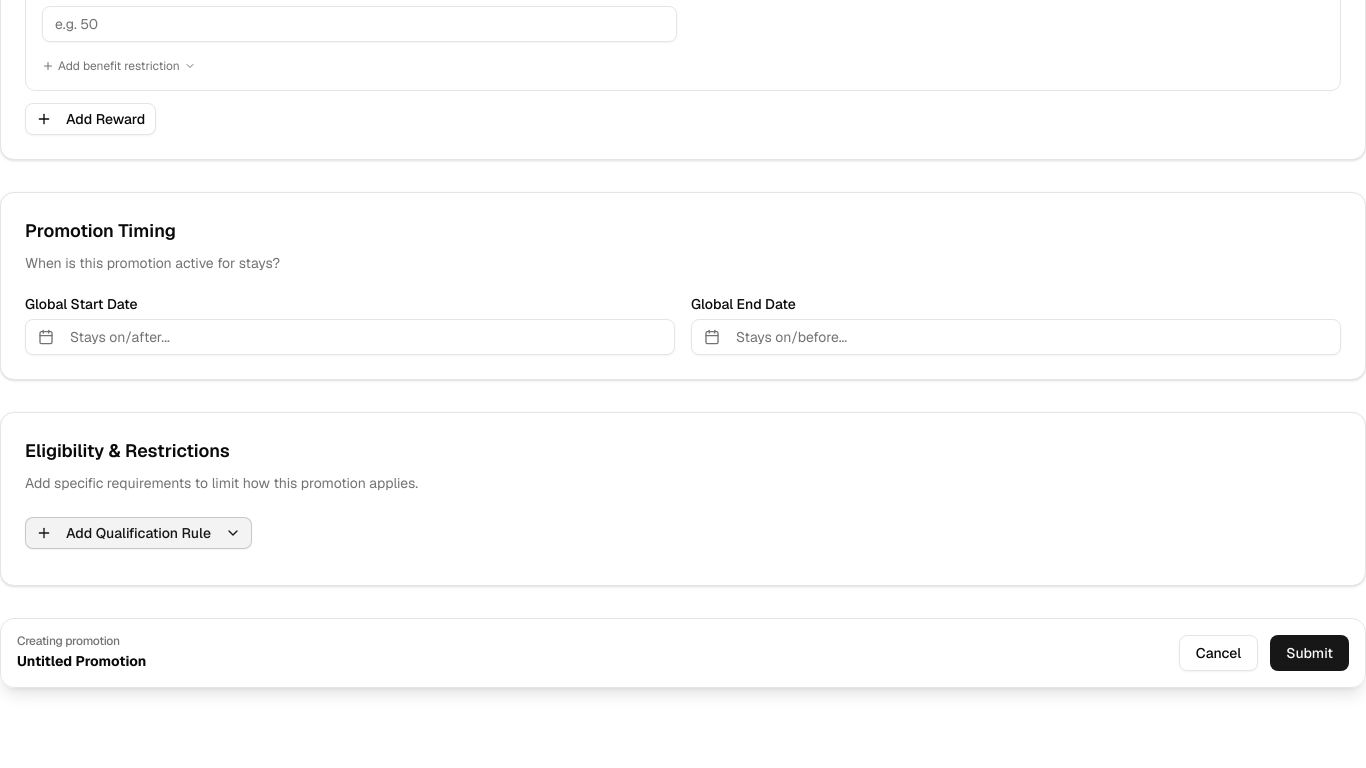
Test: PromotionForm › renders registration fields when restriction is added via picker
(page scrolled)
expect the field labelled "Registration Deadline" is not shown: met
// Open the picker and add Registration & Validity
Step 1. Click the button with test id "restriction-picker-button" → (138, 533), box [25,517,252,549]
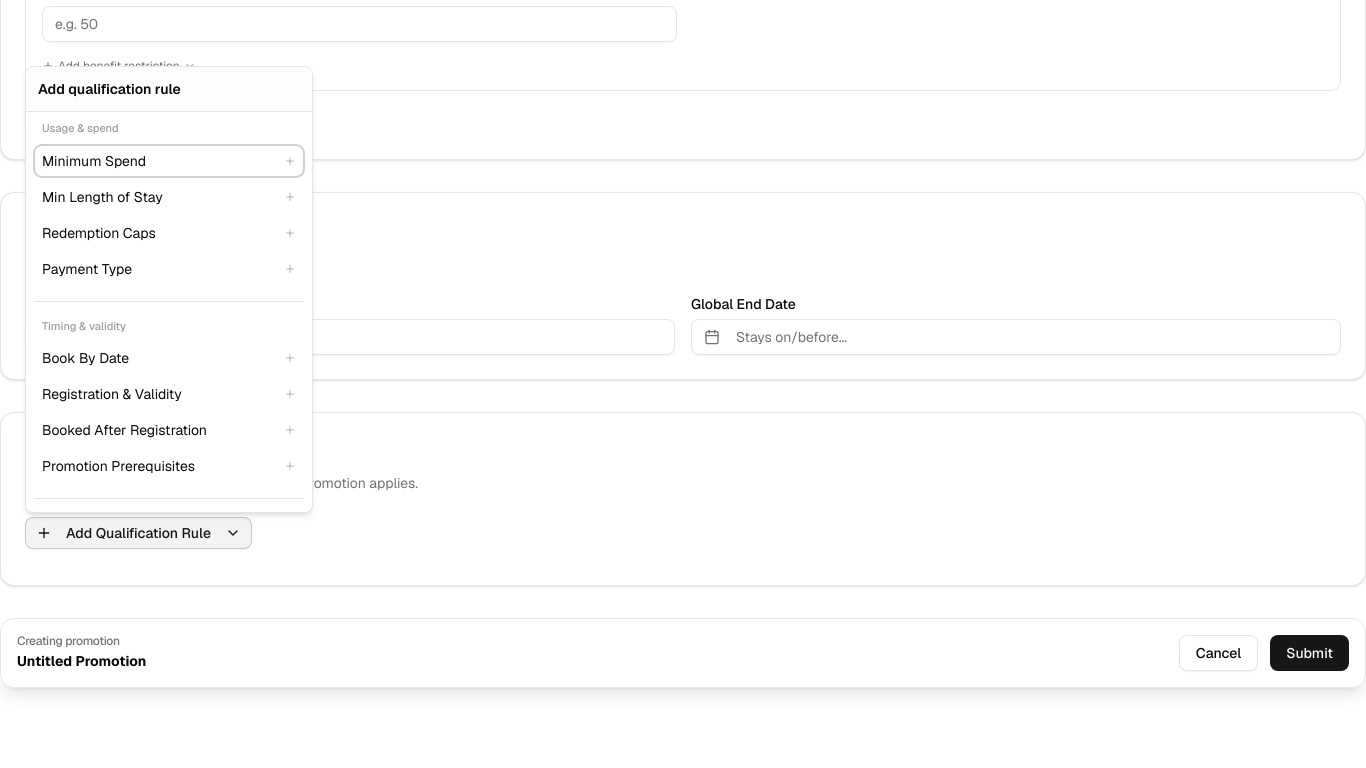
Step 2. Click the button with test id "restriction-option-registration" → (169, 394), box [34,378,304,410]
(page scrolled)
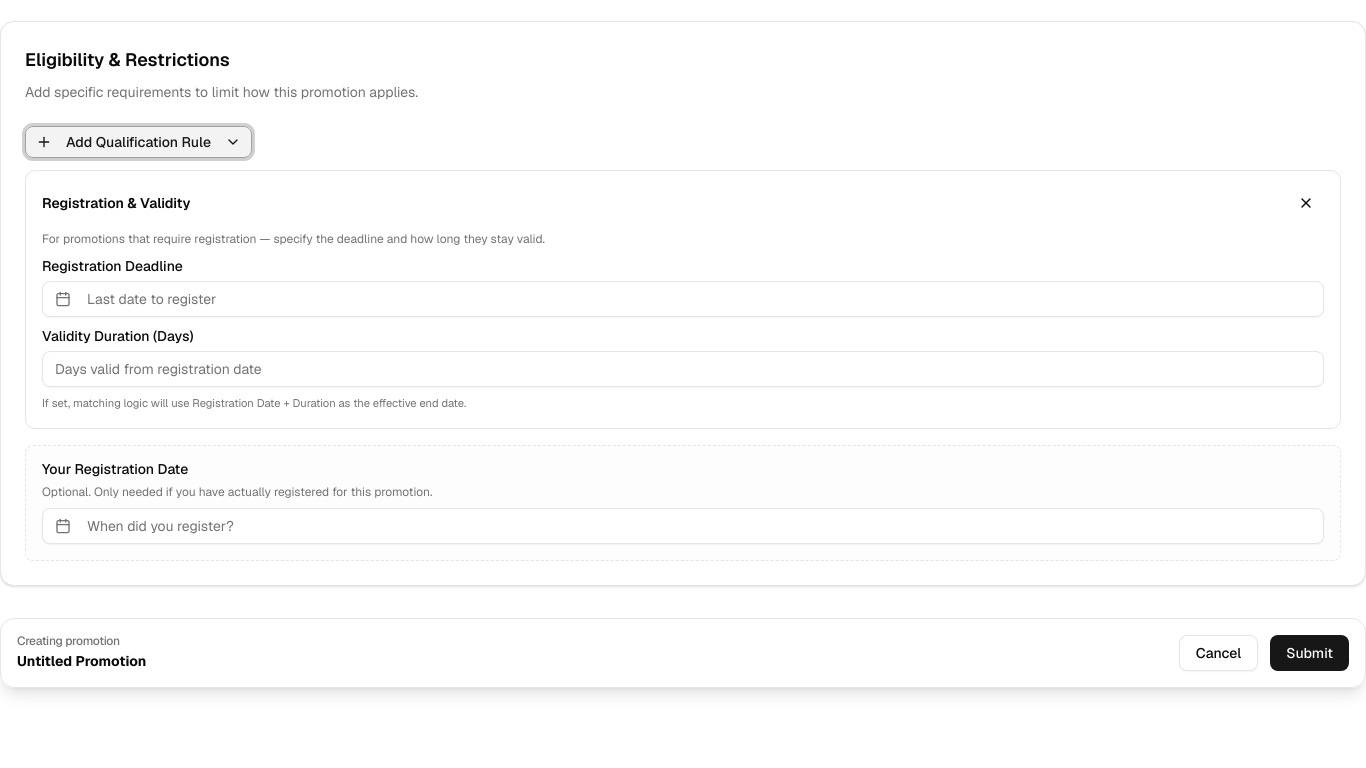
expect the button named "Registration Deadline" is shown: met, box [42,281,1324,317]
expect the number field labelled "Validity Duration (Days)" is shown: met, box [42,351,1324,387]
expect the button named "Your Registration Date" is shown: met, box [42,508,1324,544]
